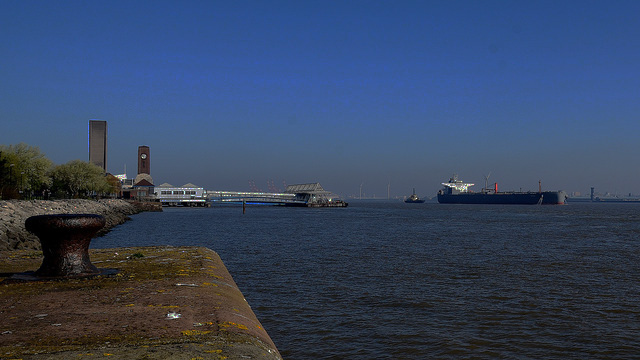tanker: (436, 173, 569, 205)
tug_boat: (401, 187, 426, 205)
